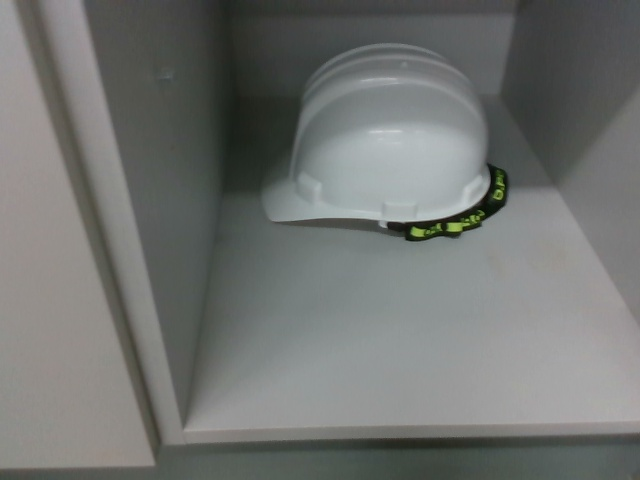helmet: (256, 37, 514, 243)
